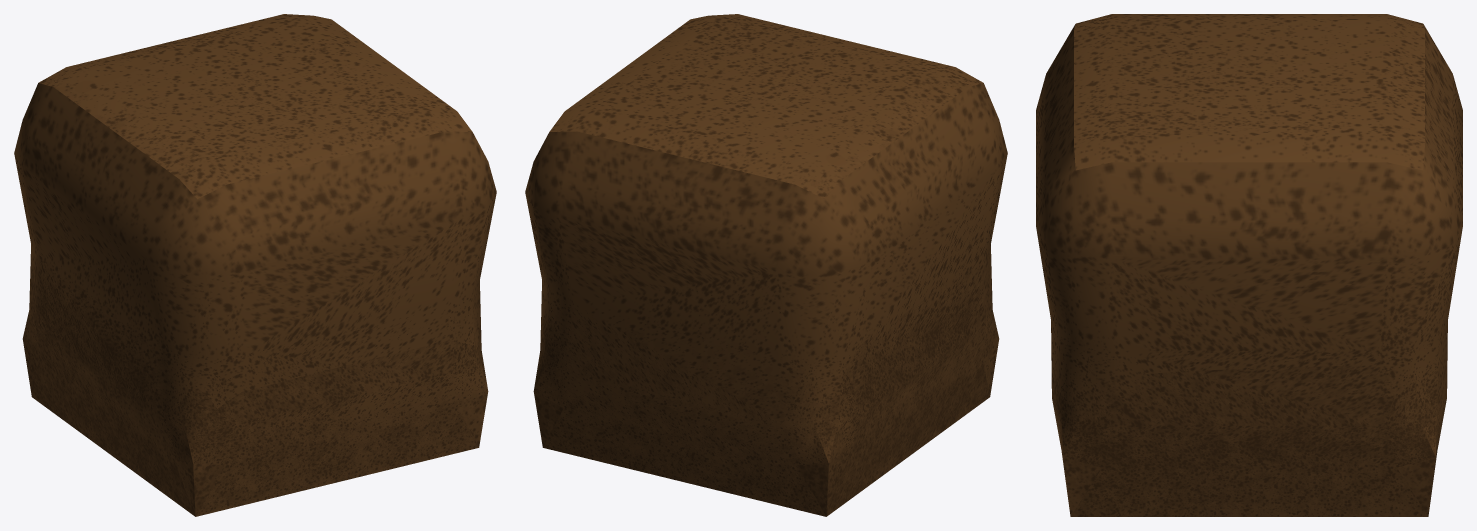
File: blockDirt.obj
The picture shows the model from 3 angles, left to right: view 1: azimuth 30°, elevation 25°; view 2: azimuth 150°, elevation 25°; view 3: azimuth 270°, elevation 25°; orthographic projection. The views are drawn at different scales.
Visible parts, largest first — view 1: blockCobblestone; view 2: blockCobblestone; view 3: blockCobblestone.
Boxes of the visible parts, bbox=[...] form: blockCobblestone: bbox=[14, 14, 496, 516]; blockCobblestone: bbox=[525, 14, 1007, 516]; blockCobblestone: bbox=[1036, 14, 1462, 516].
Size of the model in its own units: 1.08 by 1.01 by 1.08.
1 material, 1 textured.
